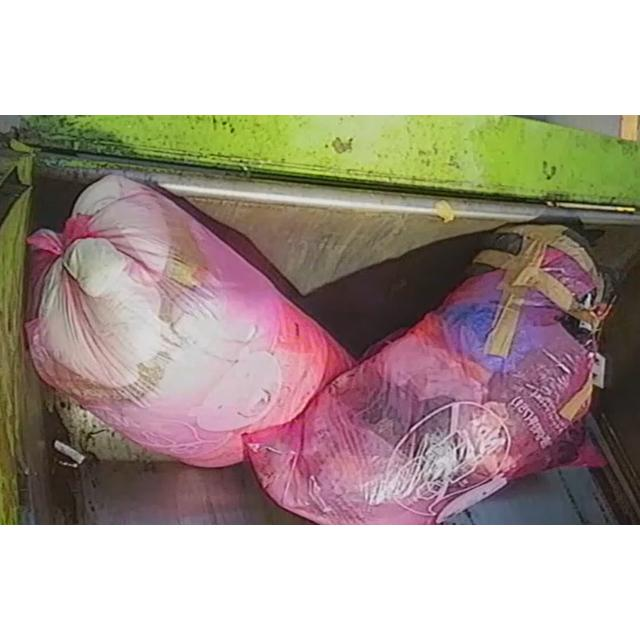other_trashbag: (245, 225, 610, 524), (25, 176, 352, 467)
